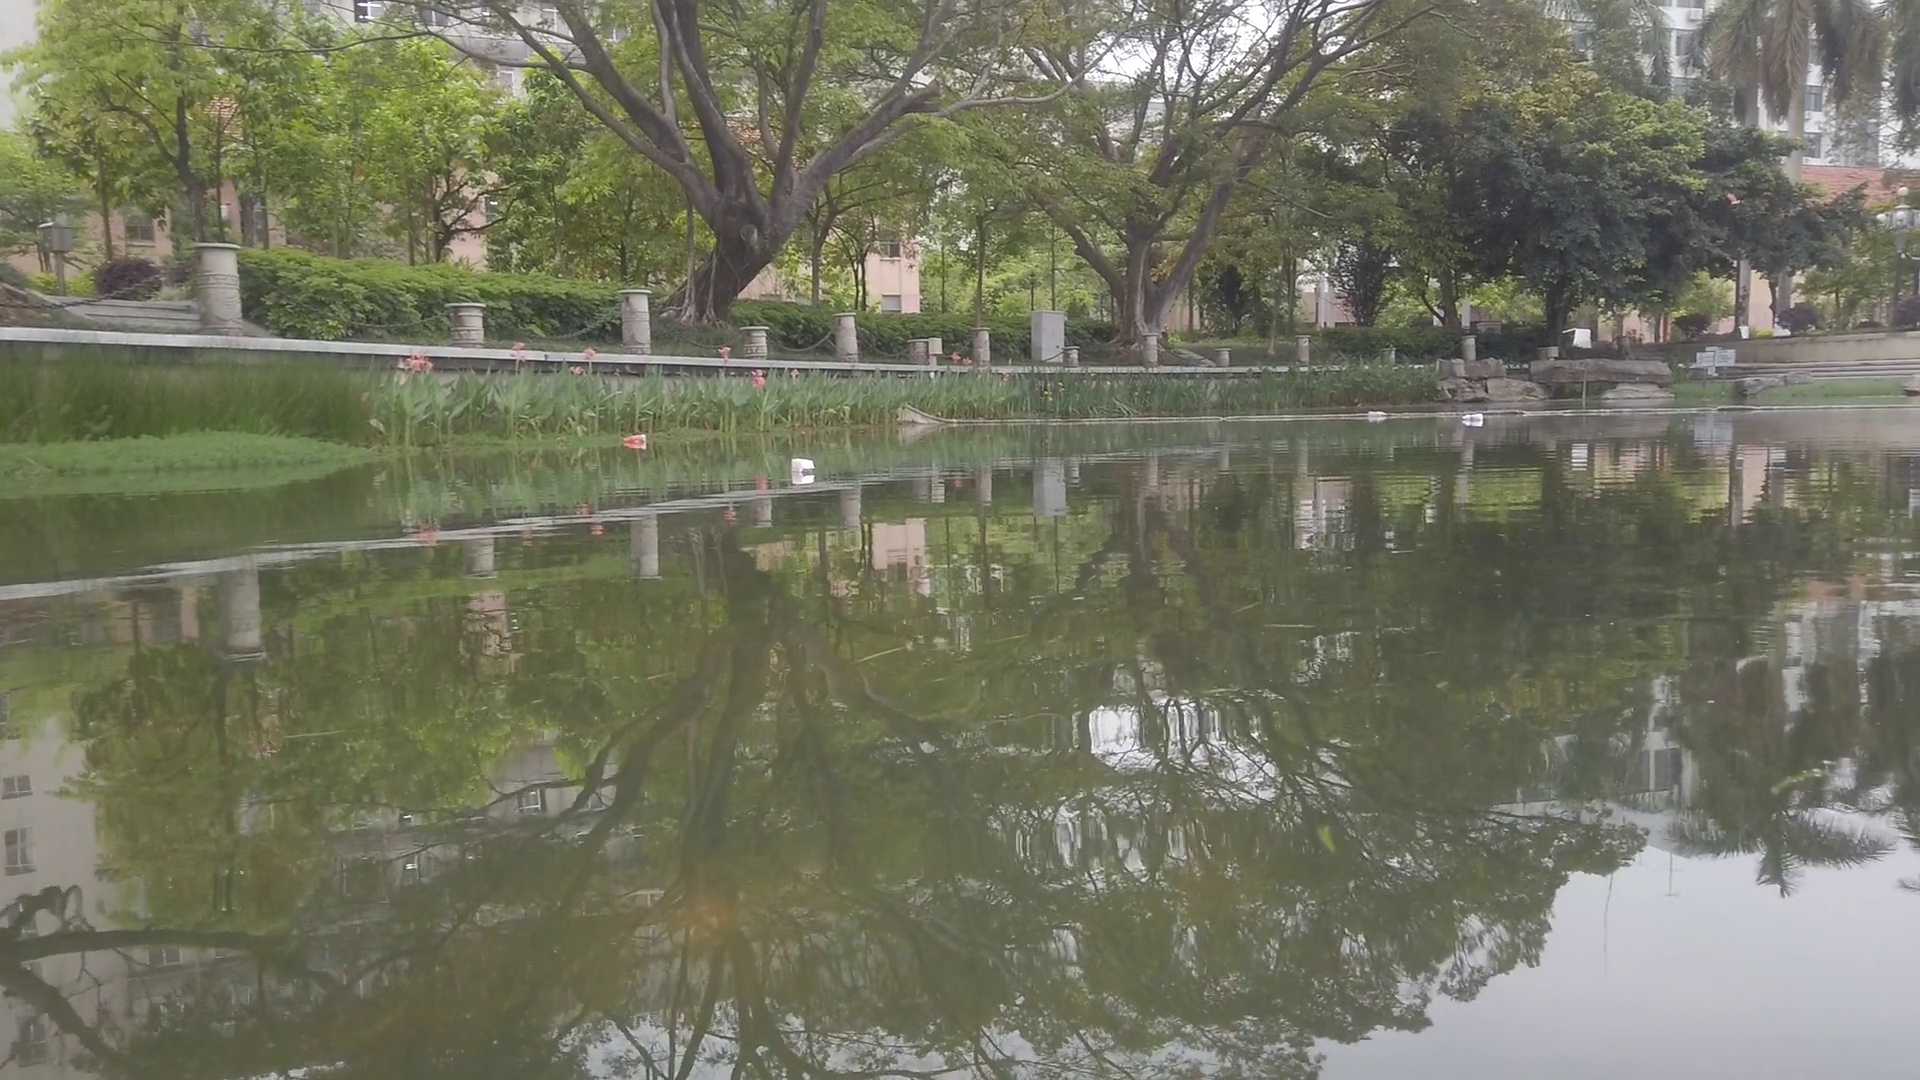bottle: (1462, 411, 1484, 423), (622, 434, 645, 444), (1369, 411, 1387, 419)
carton: (793, 458, 816, 477)
